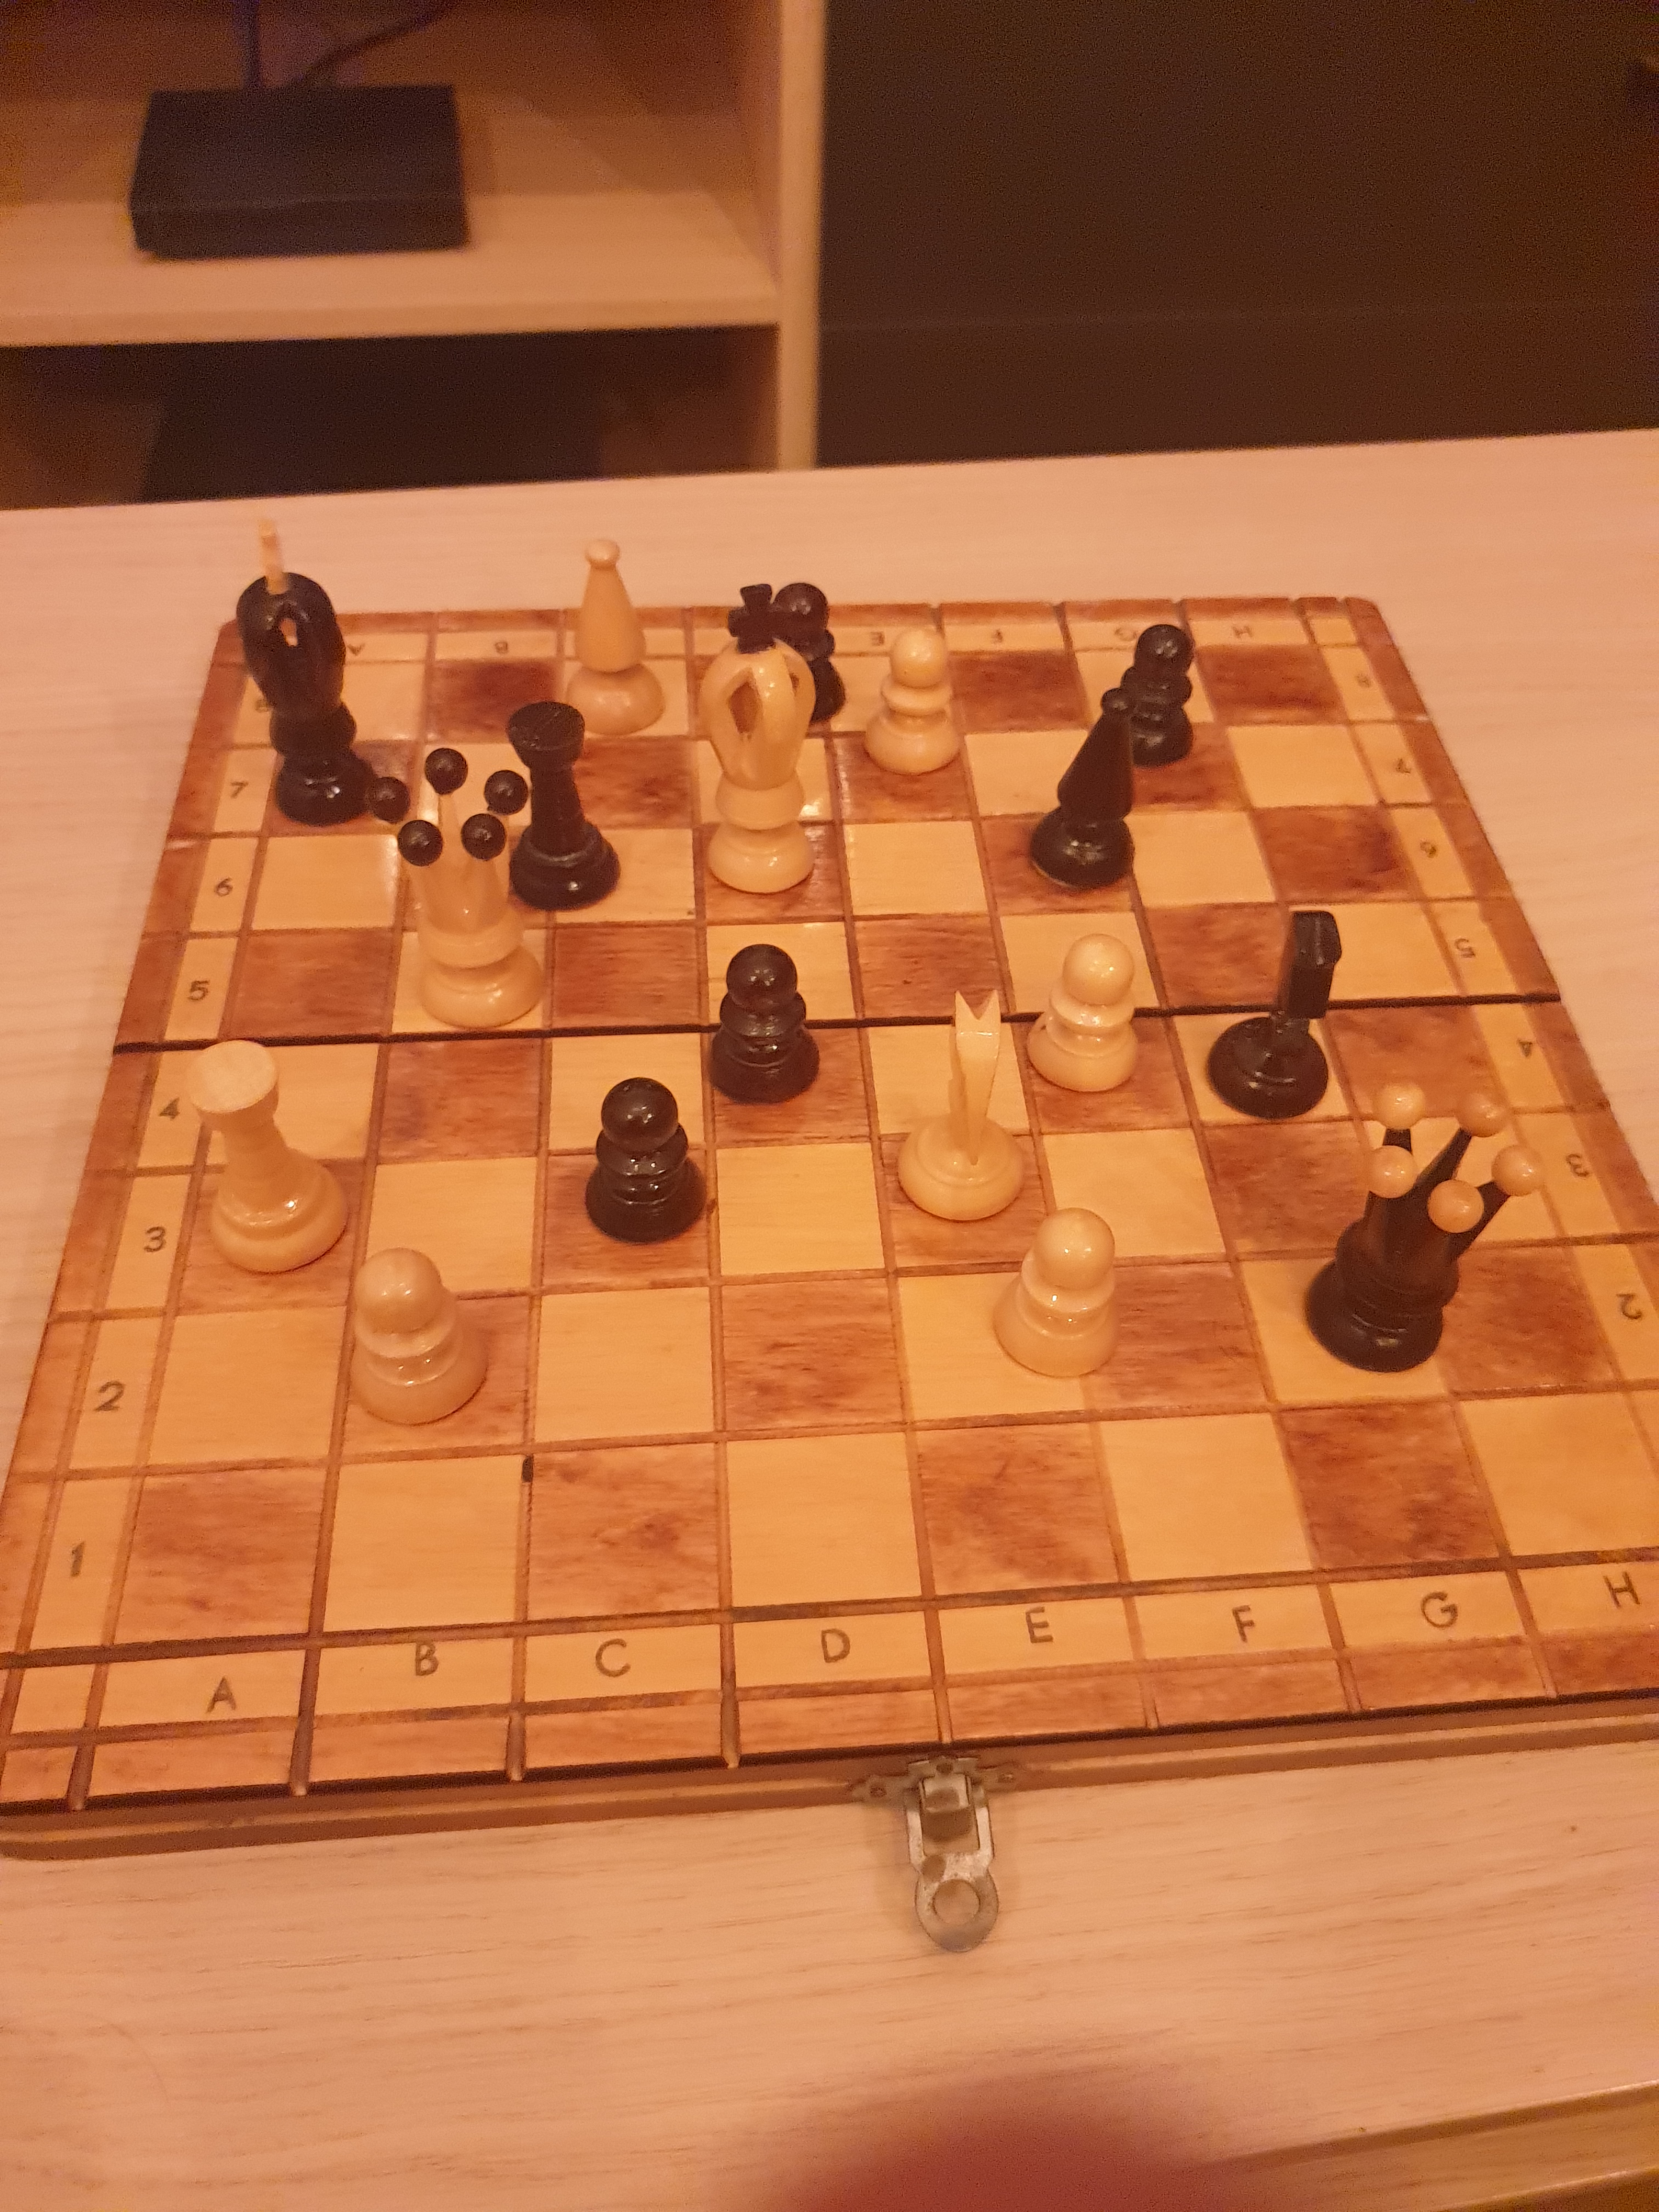bbishop: (1019, 678, 1157, 914)
bking: (225, 512, 387, 833)
bknight: (1190, 899, 1364, 1132)
bpawn: (573, 1062, 720, 1252), (695, 928, 828, 1122), (1094, 606, 1204, 784), (753, 566, 863, 742)
bqueen: (1295, 1069, 1551, 1390)
brook: (491, 690, 636, 916)
wbishop: (552, 531, 676, 749)
wking: (690, 577, 835, 906)
wknight: (887, 975, 1060, 1235)
wpawn: (326, 1240, 490, 1437), (978, 1193, 1126, 1385), (1019, 928, 1155, 1099), (857, 617, 974, 786)
wqueen: (359, 745, 565, 1036)
wrook: (174, 1026, 357, 1289)
